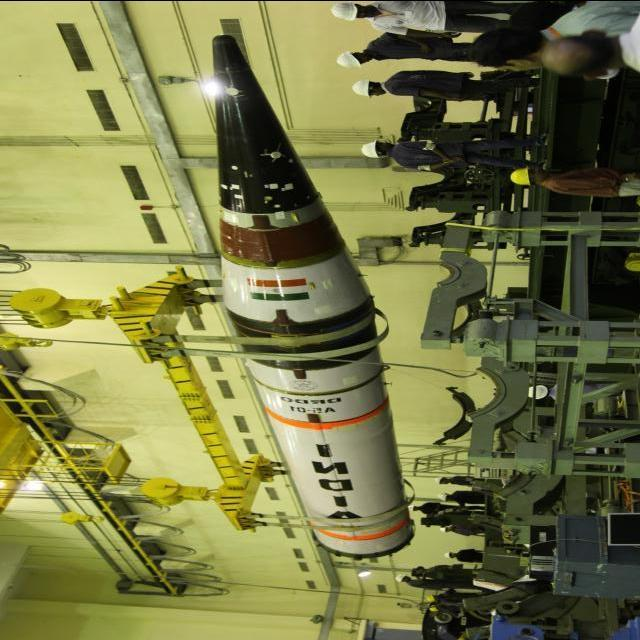Missile: (197, 27, 428, 569)
